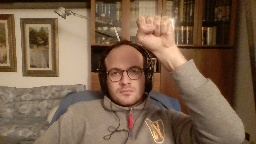Pugno: (133, 12, 177, 54)
